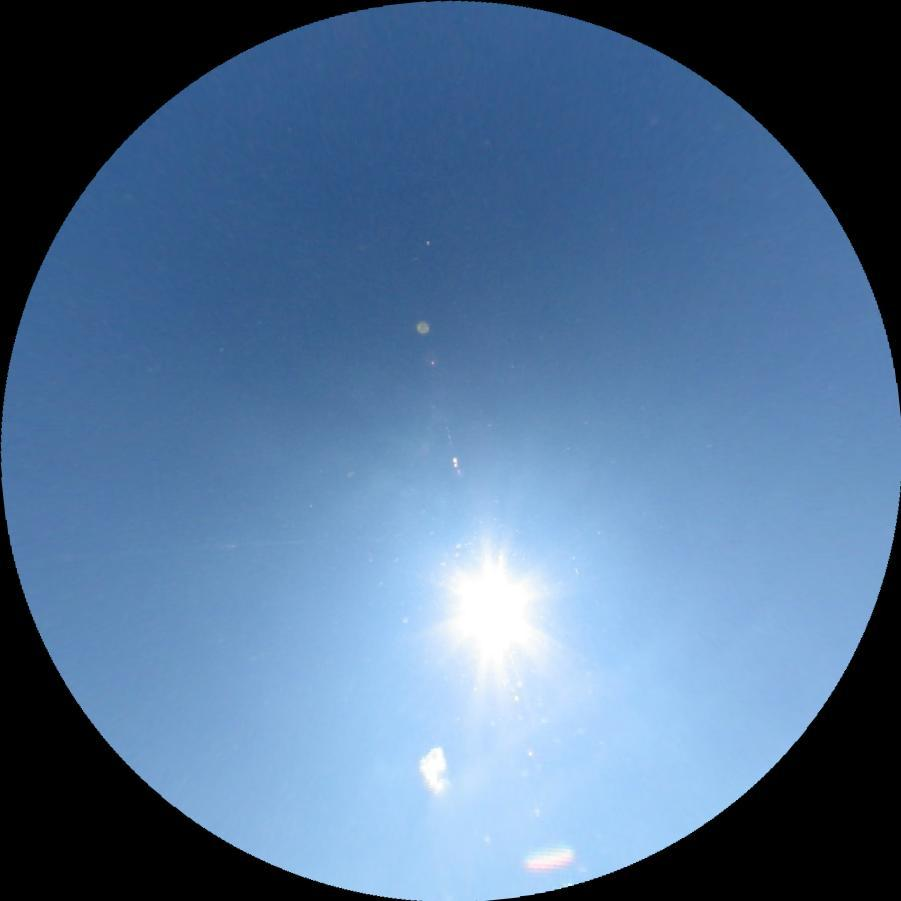sun: (431, 546, 552, 669)
